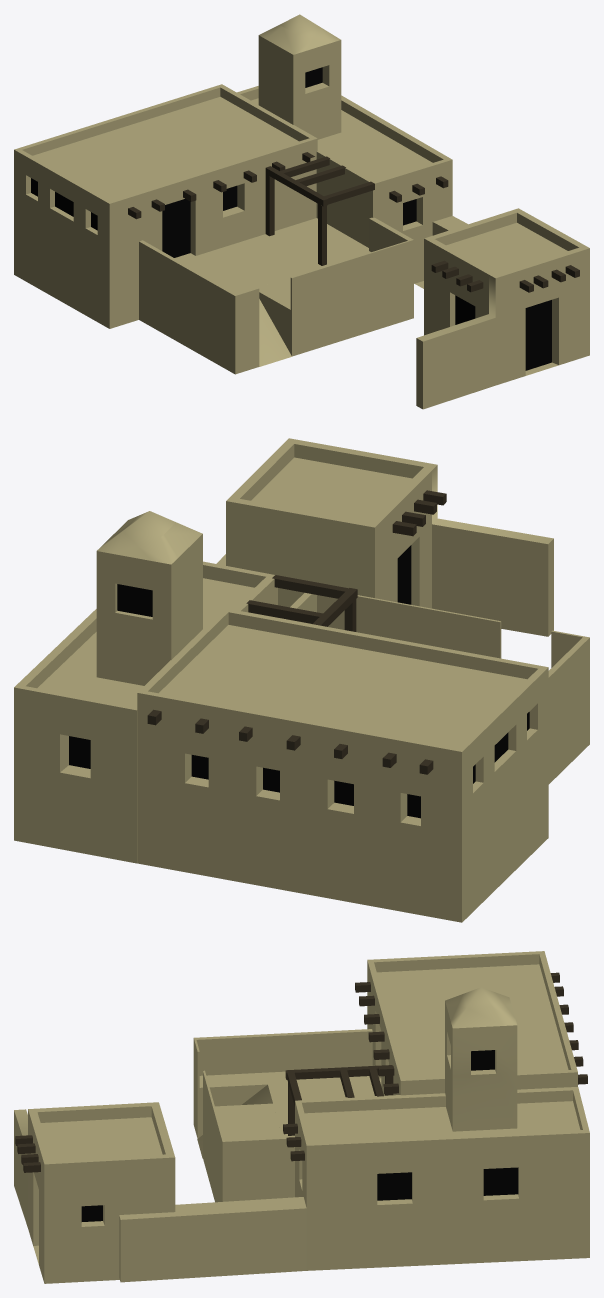
The model's file is _ouse 2.0.fbx.
3 renders of one model, top to bottom at view 1: azimuth 30°, elevation 25°; view 2: azimuth 150°, elevation 25°; view 3: azimuth 270°, elevation 25°, orthographic. The views are drawn at different scales.
Visible parts, largest first — view 1: polySurface157; view 2: polySurface157; view 3: polySurface157.
Boxes of the visible parts, x1,y1,x2,y2 form: polySurface157: (14,14,589,409); polySurface157: (14,438,589,922); polySurface157: (14,951,589,1283).
Bounding box in the file's own units: 1317 × 786 × 1670.
